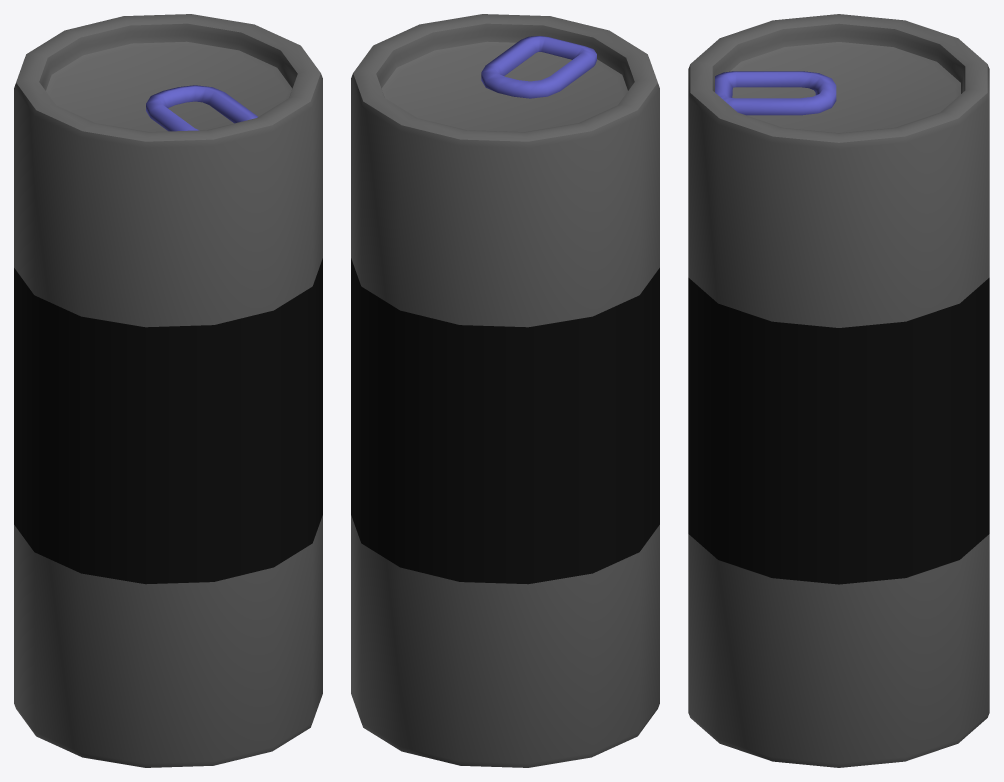
File: SM_soda_can_02.fbx
3 renders of one model, left to right at view 1: azimuth 30°, elevation 25°; view 2: azimuth 150°, elevation 25°; view 3: azimuth 270°, elevation 25°, orthographic.
Visible parts, largest first — view 1: Cylinder032; view 2: Cylinder032; view 3: Cylinder032.
Boxes of the visible parts, box(x1,y1,x2,y2) form: Cylinder032: box(14, 14, 322, 767); Cylinder032: box(351, 14, 659, 767); Cylinder032: box(688, 14, 989, 767).
Bounding box in the file's own units: 6.46 × 14.49 × 6.3.
